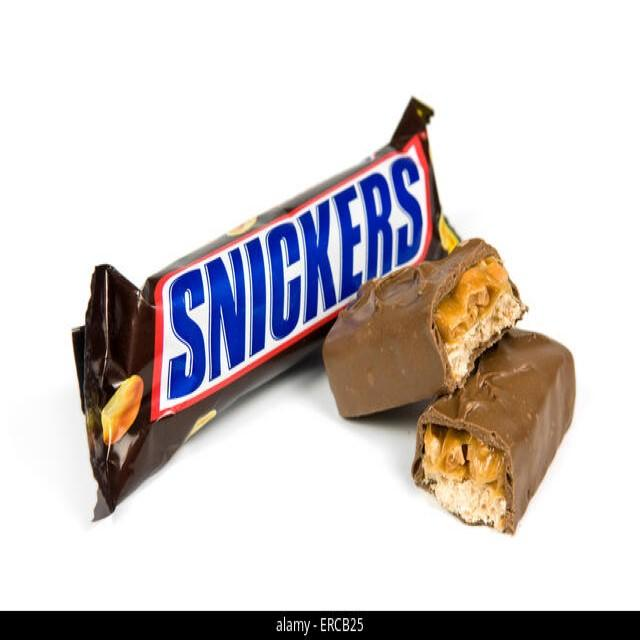snickers_chocolate: (71, 122, 432, 518)
